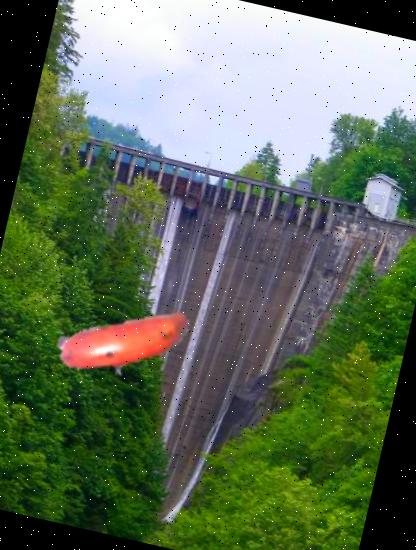Banana: (41, 265, 208, 431)
